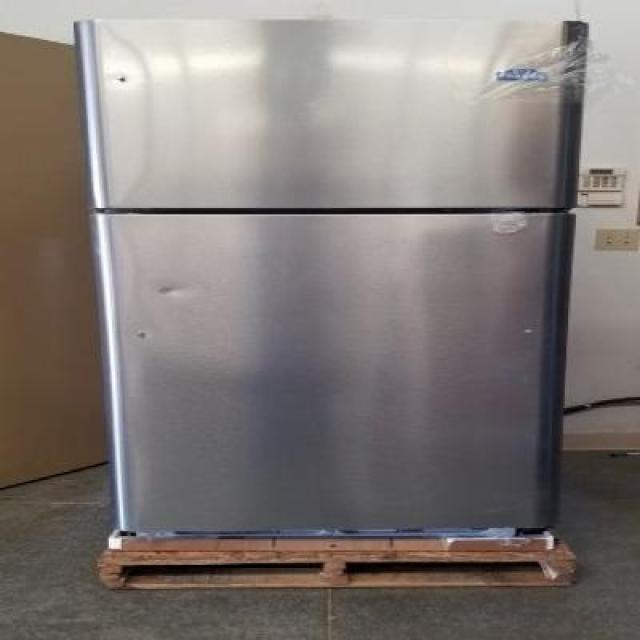refrigerator: (74, 19, 580, 534)
